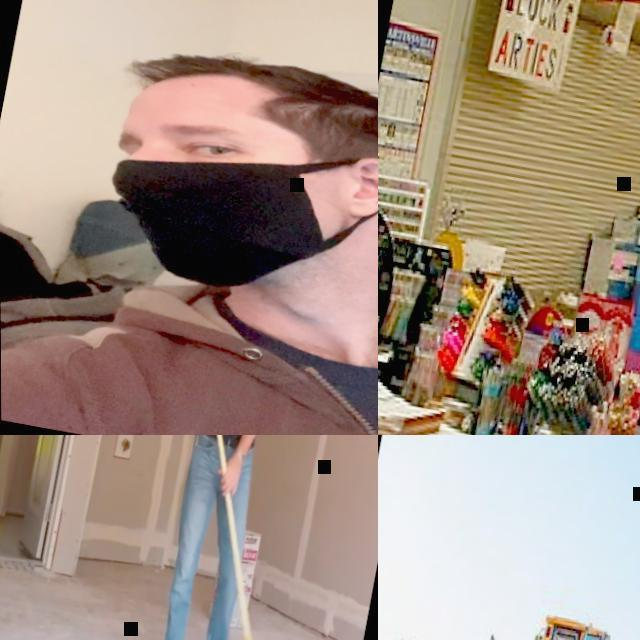machinery: (396, 578, 640, 640)
mask: (84, 117, 378, 314)
no_helmet: (121, 31, 378, 152)
no_vest: (0, 269, 378, 435)
person: (0, 7, 378, 435), (108, 435, 332, 640)
